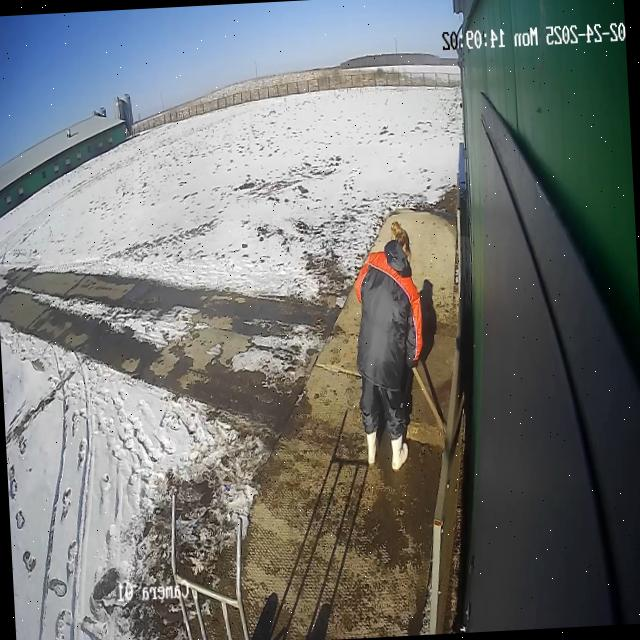Red uniform: (350, 238, 430, 446)
